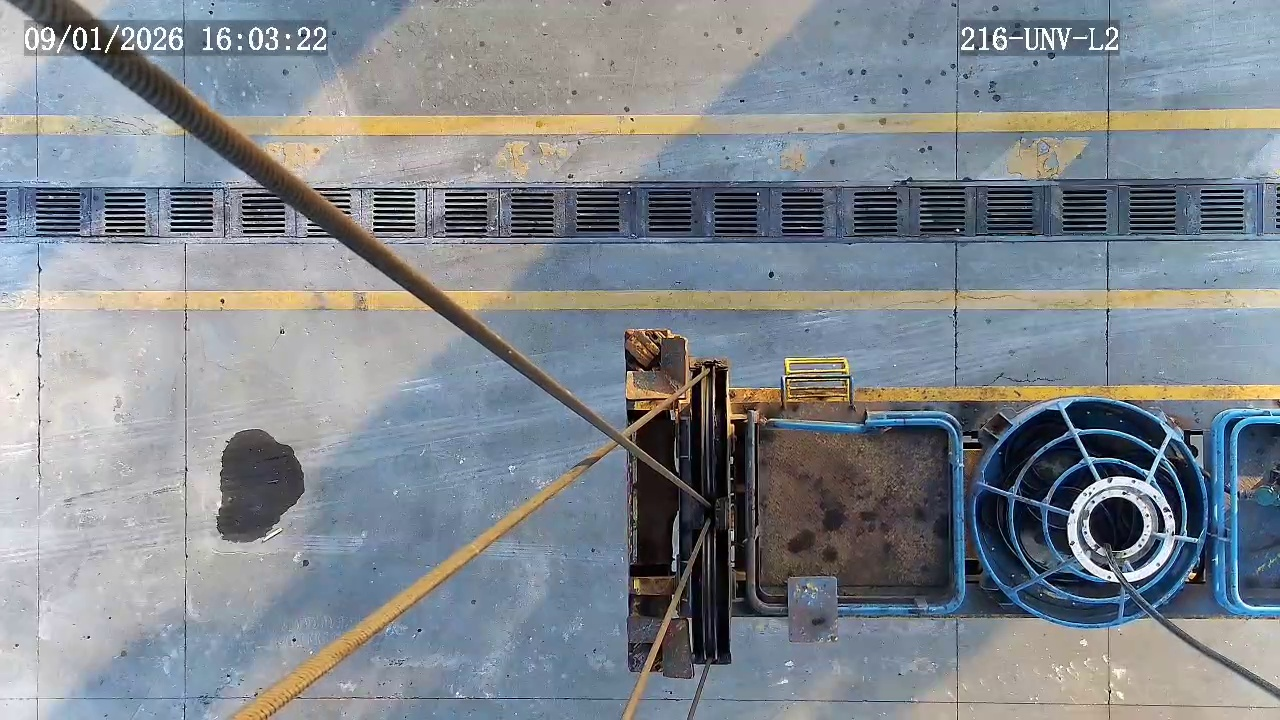left: (1067, 476, 1176, 584)
